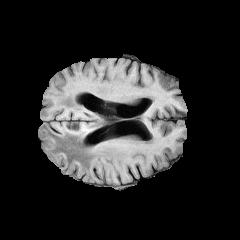glioma: (42, 94, 121, 171)
